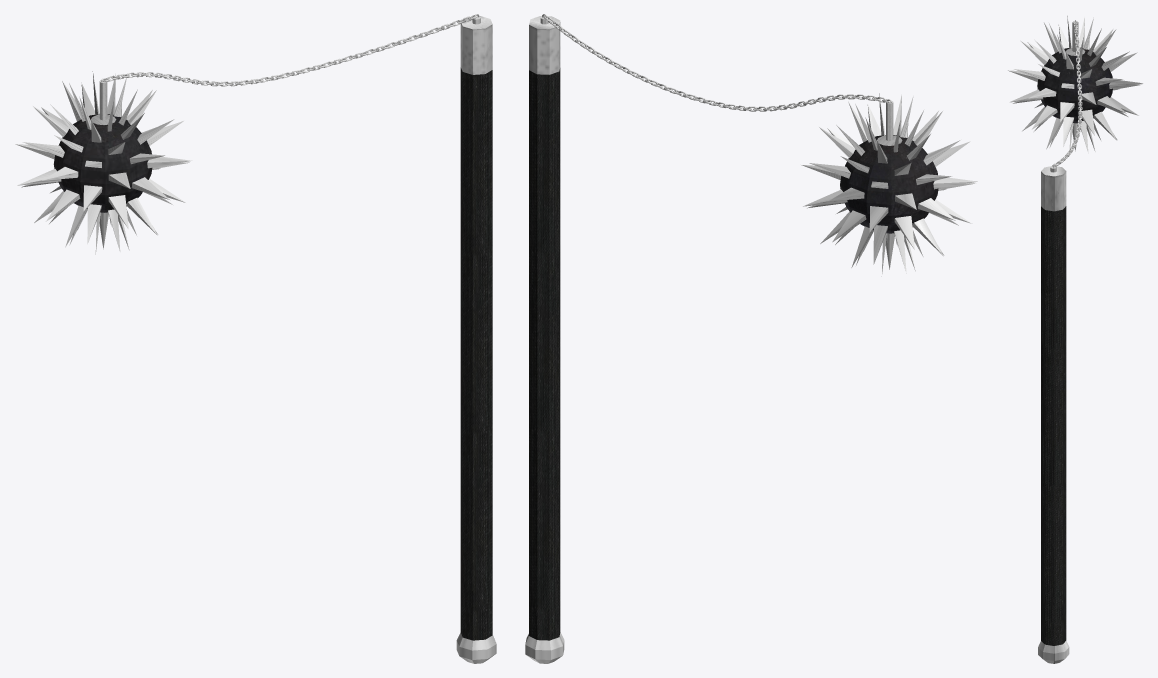
The model's file is Weapon01.fbx.
The picture shows the model from 3 angles, left to right: view 1: azimuth 30°, elevation 25°; view 2: azimuth 150°, elevation 25°; view 3: azimuth 270°, elevation 25°; orthographic projection. The views are drawn at different scales.
Parts seen in each view (by area): view 1: weapon01; view 2: weapon01; view 3: weapon01.
Boxes of the visible parts, x1,y1,x2,y2 form: weapon01: (15,14,496,663); weapon01: (525,14,977,663); weapon01: (1007,15,1142,663).
Size of the model in its own units: 103 by 34.92 by 142.
3 materials, 3 textured.
